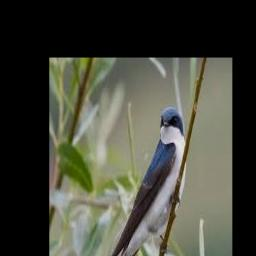Swallow: (101, 106, 187, 256)
